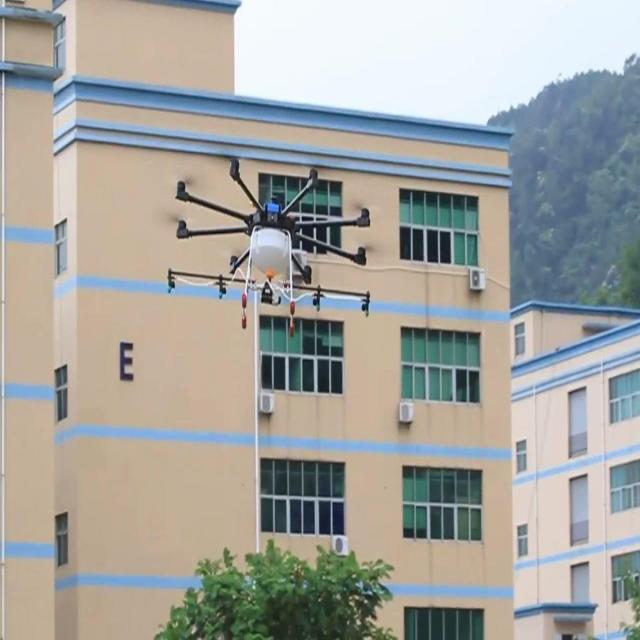UAV: (166, 159, 374, 337)
